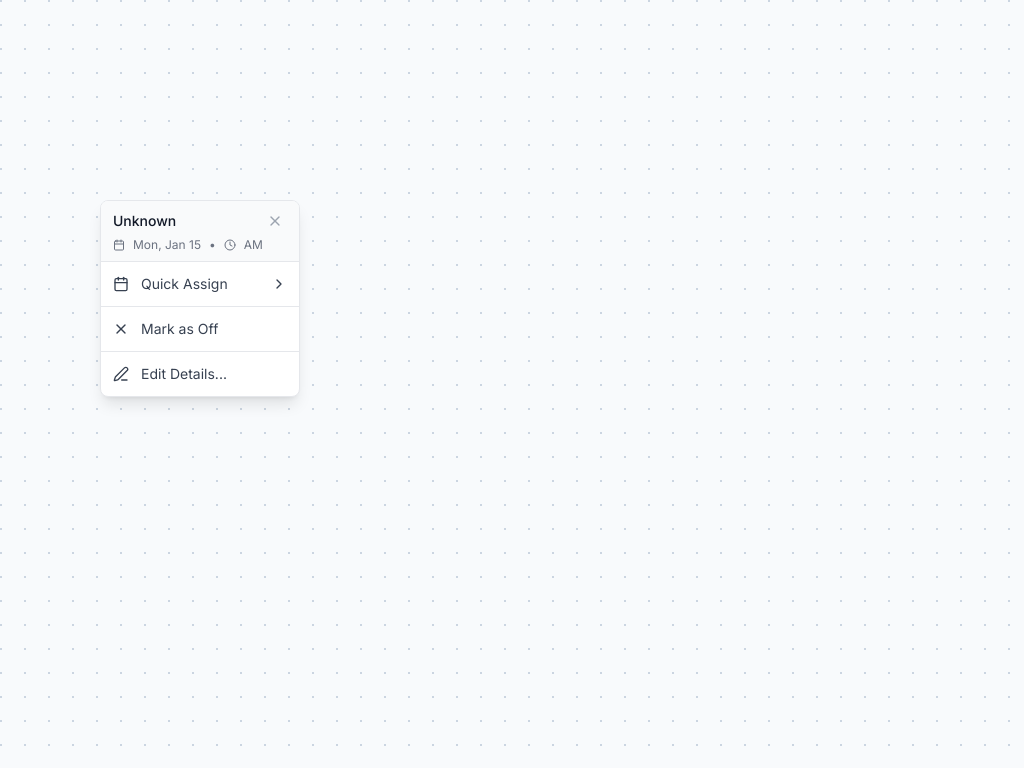
QuickAssignMenu › Quick Assign Submenu › should toggle rotation submenu when Quick Assign is clicked
The width and height of the screenshot is (1024, 768).
Step 1. Click the menu item "Quick Assign" → (200, 284), box [101, 266, 299, 302]
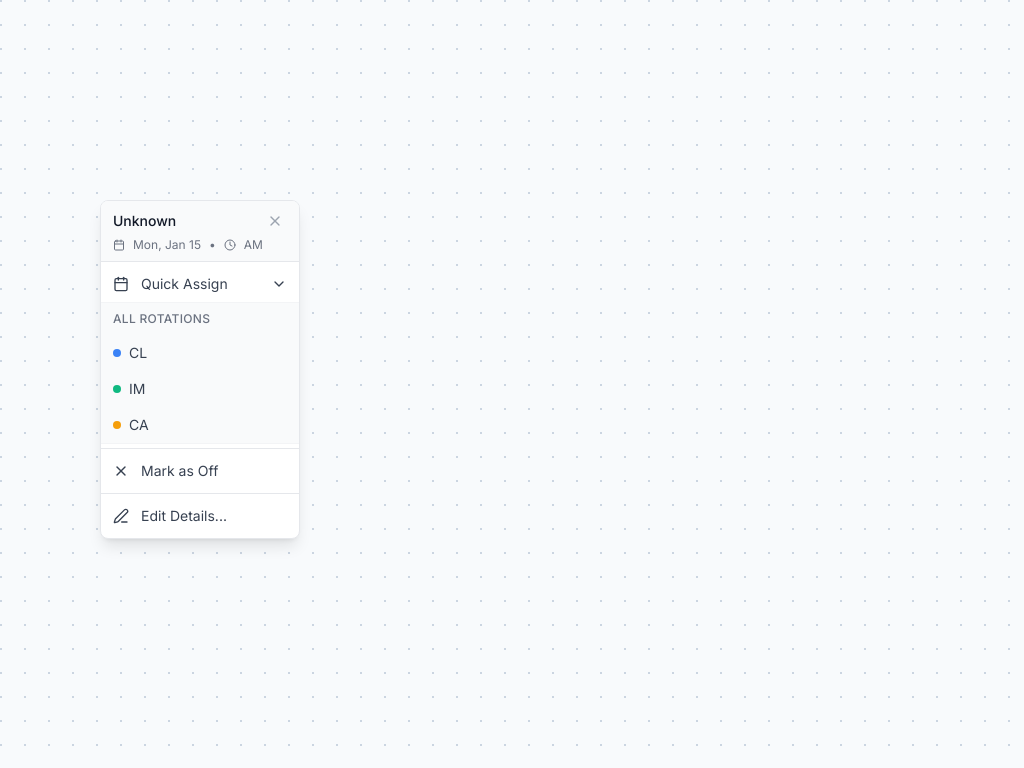
Expected: the text "All Rotations" is shown, [101, 303, 299, 335]
